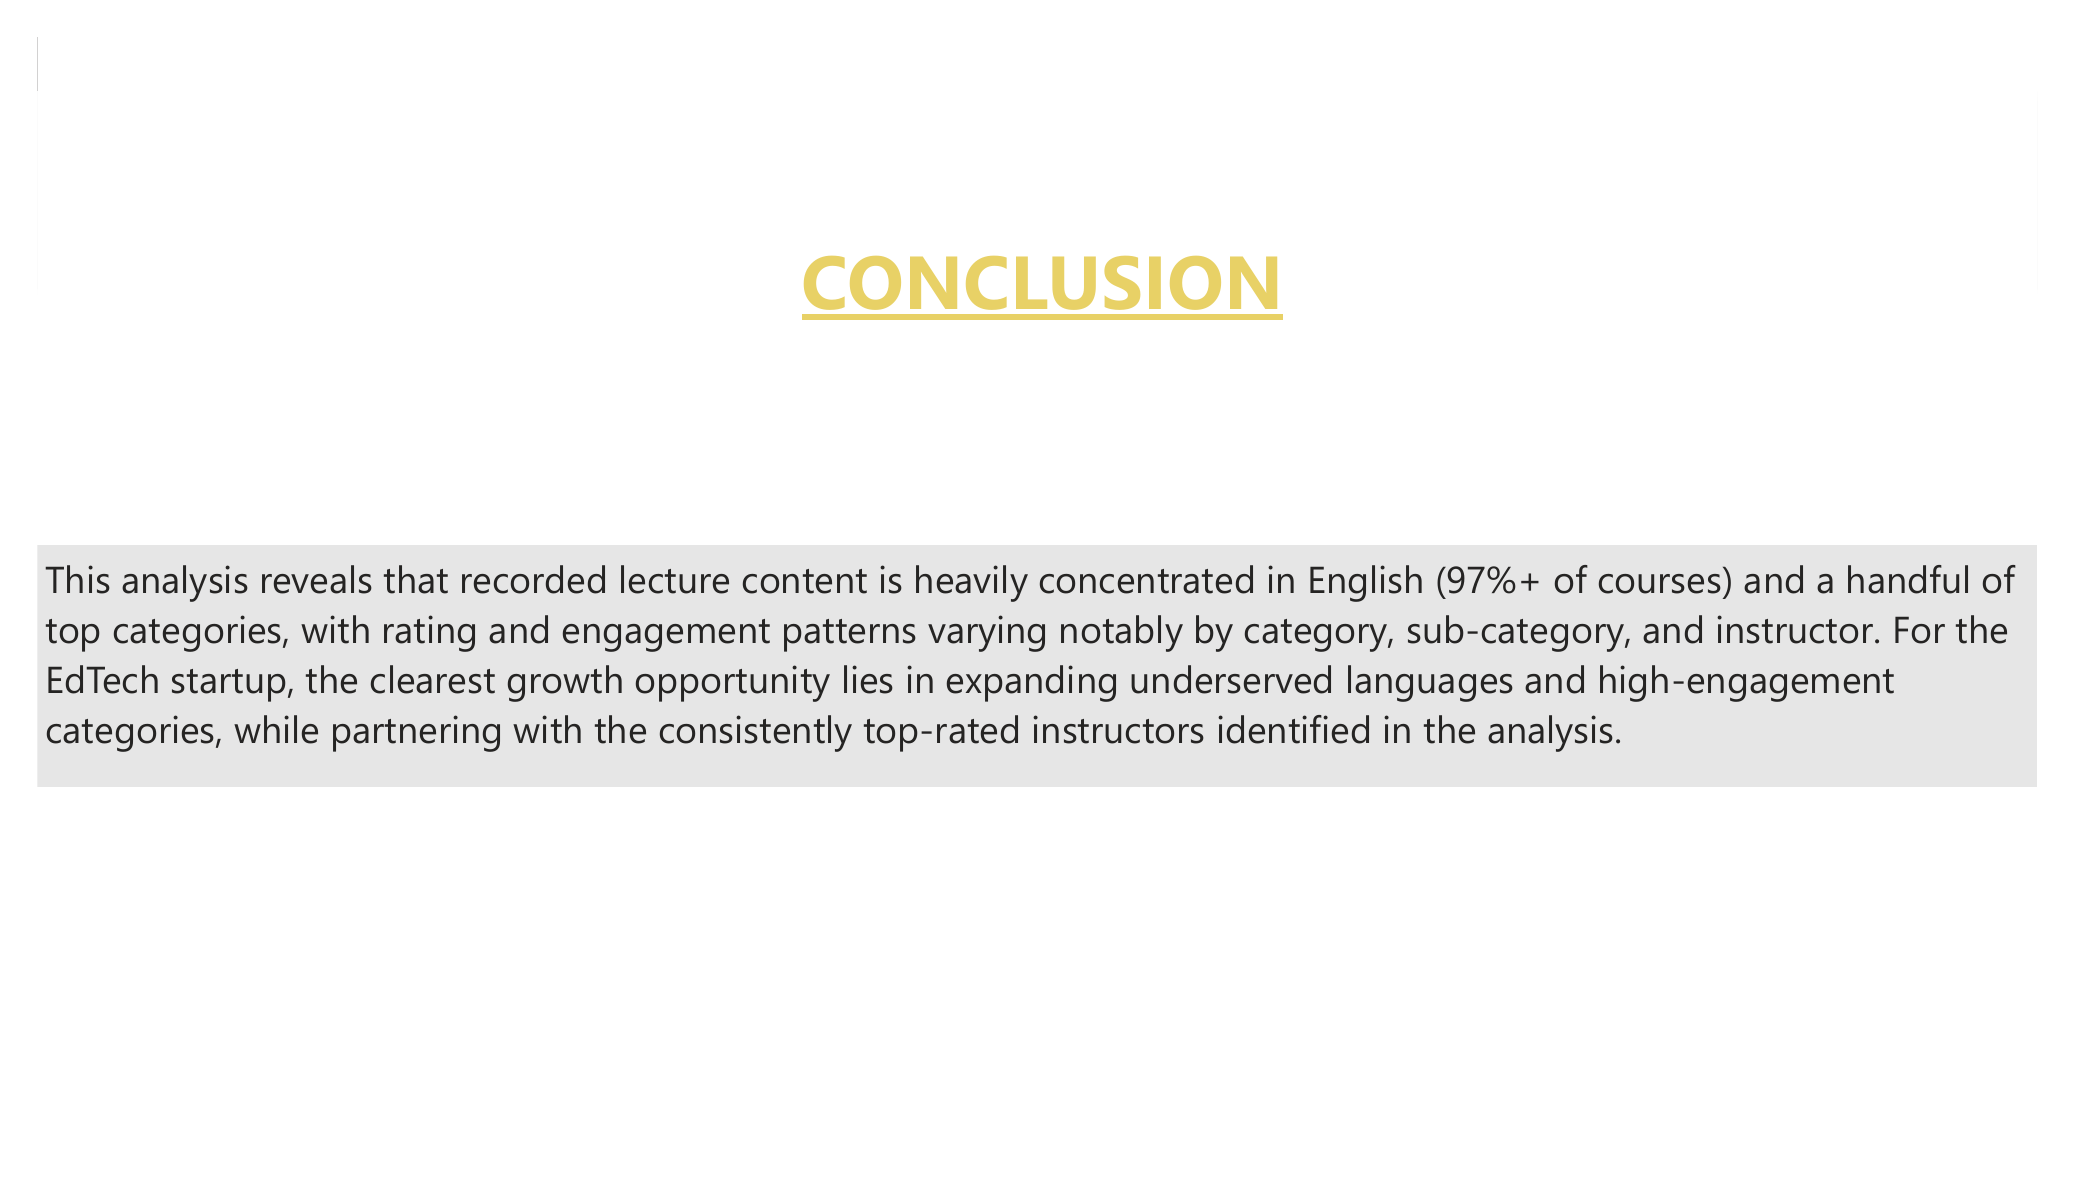

The page's visual inventory and layout, read from the dashboard file:
{"tool":"powerbi","page":{"name":" Conclusion","canvas":[1280,720],"ordinal":11},"visuals":[{"type":"textbox","box":[484.4,116.6,351.3,79.6],"z":0},{"type":"textbox","box":[0,325.2,1280.3,155.1],"z":1}]}

Visuals, with their boxes on the page's 1280x720 design canvas (x1, y1, x2, y2). These are canvas units, not pixel positions in the 2075x1200 screenshot, which may show the page scaled, cropped or inside an application window:
textbox: (484, 117, 836, 196)
textbox: (0, 325, 1280, 480)
